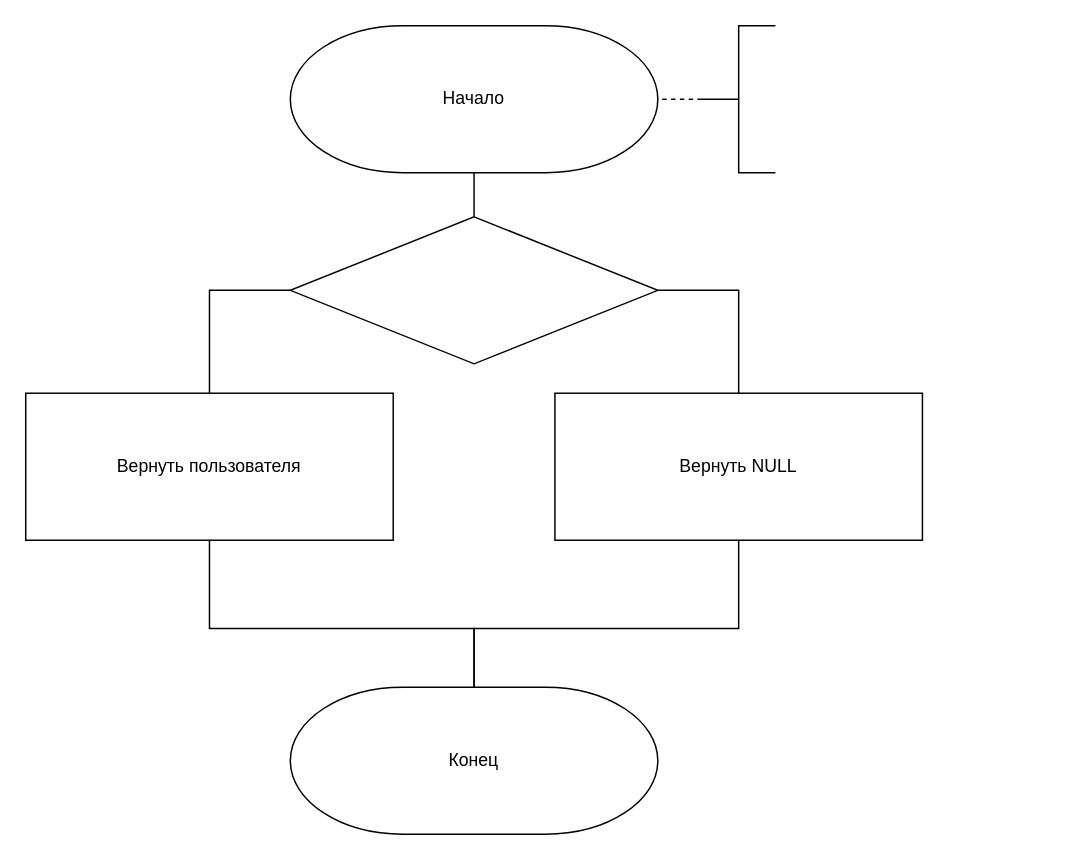
The diagram is 1092 pixels wide and 860 high, and some of its shapes have lost their labels. Here are the shapes that lost their labels. From the top down, the box of each, then its label:
(700, 24, 775, 173): Вызов функции check_moderators()
(289, 215, 658, 364): Пользователь является модератором, и в системе один модератор?
